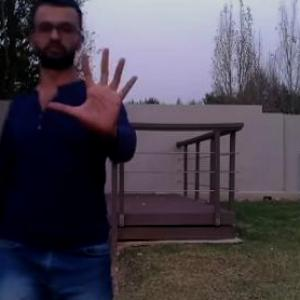follow_hand: (46, 41, 144, 142)
